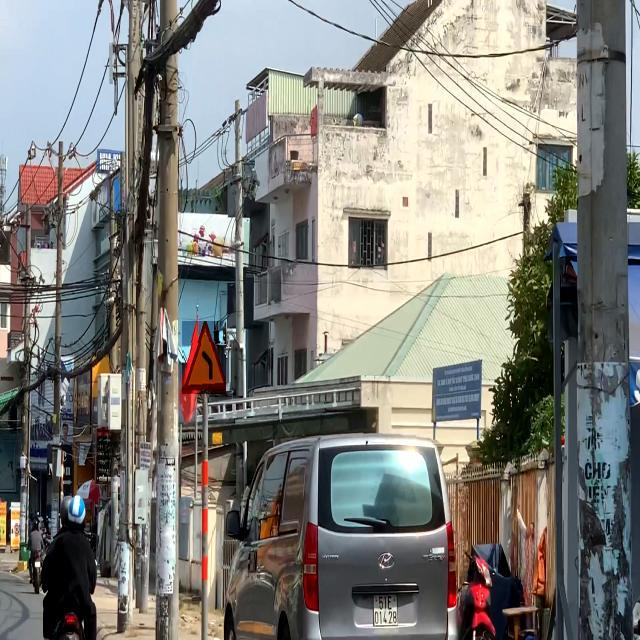W-201a: (182, 321, 226, 394)
